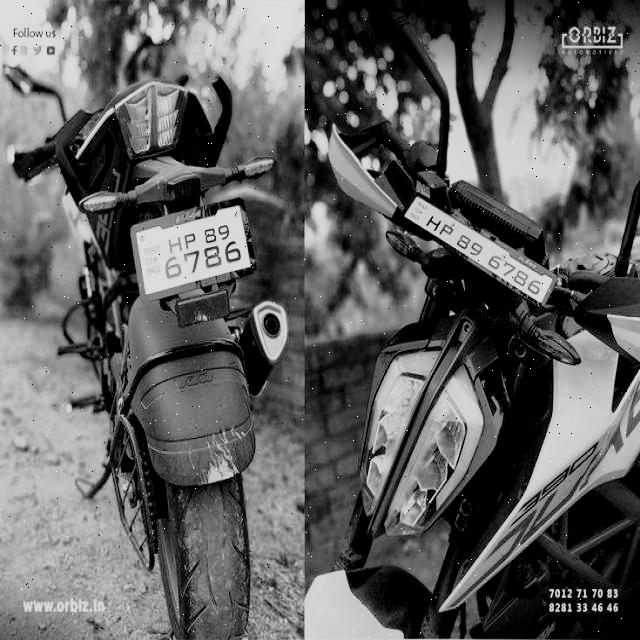Bike: (2, 58, 305, 632), (311, 113, 639, 640)
